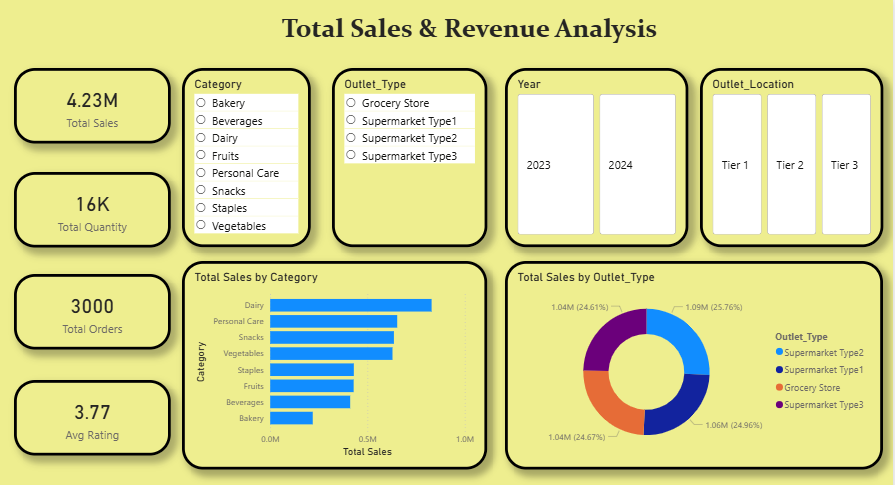

What the dashboard file says about the page in this screenshot:
{"tool":"powerbi","page":{"name":"Total Sales & Revenue Analysis","canvas":[1280,720],"ordinal":0},"visuals":[{"type":"clusteredBarChart","fields":{"Category":["Blinkit.Category"],"Y":["Blinkit.Total Sales"]},"box":[264,376,436,298],"z":0},{"type":"donutChart","fields":{"Category":["Blinkit.Outlet_Type"],"Y":["Blinkit.Total Sales"]},"box":[726,376,540,298],"z":1000},{"type":"card","fields":{"Values":["Blinkit.Total Sales"]},"box":[24,100,224,108],"z":2000},{"type":"card","fields":{"Values":["Blinkit.Total Quantity"]},"box":[24,248,224,108],"z":3000},{"type":"card","fields":{"Values":["Blinkit.Total Orders"]},"box":[24,394,224,108],"z":4000},{"type":"card","fields":{"Values":["Blinkit.Avg Rating"]},"box":[24,546,224,108],"z":5000},{"type":"listSlicer","fields":{"Values":["Blinkit.Category"]},"box":[264,100,184,256],"z":6000},{"type":"listSlicer","fields":{"Values":["Blinkit.Outlet_Type"]},"box":[478,100,222,256],"z":7000},{"type":"advancedSlicerVisual","fields":{"Values":["Blinkit.Outlet_Location"]},"box":[1004,100,262,256],"z":8000},{"type":"advancedSlicerVisual","fields":{"Values":["Blinkit.Order_Date.Variation.Date Hierarchy.Year"]},"box":[726,100,262,256],"z":9000},{"type":"textbox","box":[100,14,1150,66],"z":10000}]}

Visuals, with their boxes in screenshot pixels (x1, y1, x2, y2):
clusteredBarChart - Blinkit.Category x Blinkit.Total Sales: left=184, top=259, right=484, bottom=464
donutChart - Blinkit.Outlet_Type x Blinkit.Total Sales: left=502, top=259, right=874, bottom=464
card - Blinkit.Total Sales: left=19, top=69, right=173, bottom=143
card - Blinkit.Total Quantity: left=19, top=171, right=173, bottom=245
card - Blinkit.Total Orders: left=19, top=271, right=173, bottom=346
card - Blinkit.Avg Rating: left=19, top=376, right=173, bottom=450
listSlicer - Blinkit.Category: left=184, top=69, right=311, bottom=245
listSlicer - Blinkit.Outlet_Type: left=331, top=69, right=484, bottom=245
advancedSlicerVisual - Blinkit.Outlet_Location: left=694, top=69, right=874, bottom=245
advancedSlicerVisual - Blinkit.Order_Date.Variation.Date Hierarchy.Year: left=502, top=69, right=682, bottom=245
textbox: left=71, top=10, right=863, bottom=55
